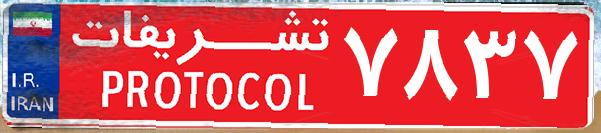3: (460, 20, 520, 115)
7: (340, 20, 400, 115), (520, 20, 580, 115)
8: (400, 20, 460, 115)
تشریفات: (60, 8, 340, 125)
